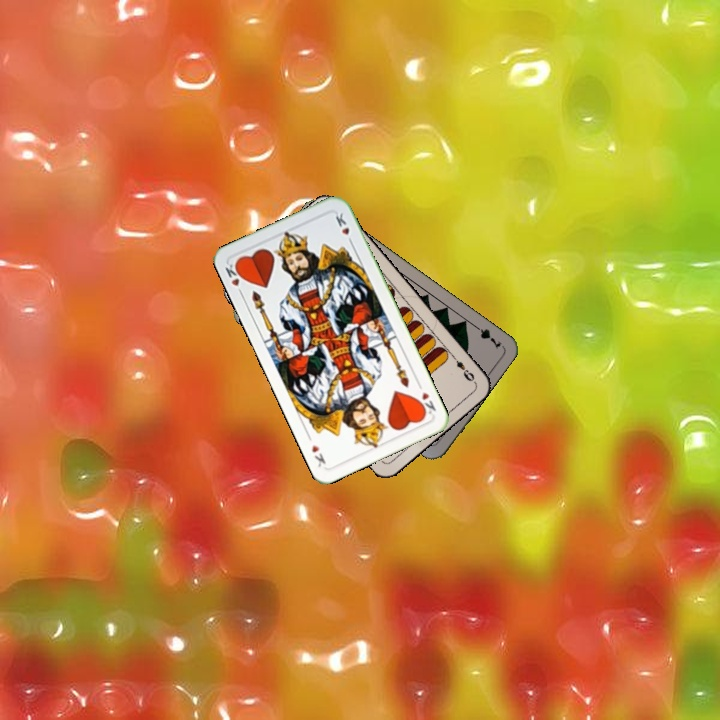E9: (448, 351, 477, 384)
G7: (469, 320, 505, 352)
HK: (221, 257, 247, 299), (413, 379, 438, 419)
